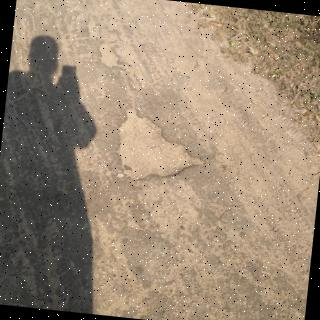pothole: (117, 107, 200, 181)
